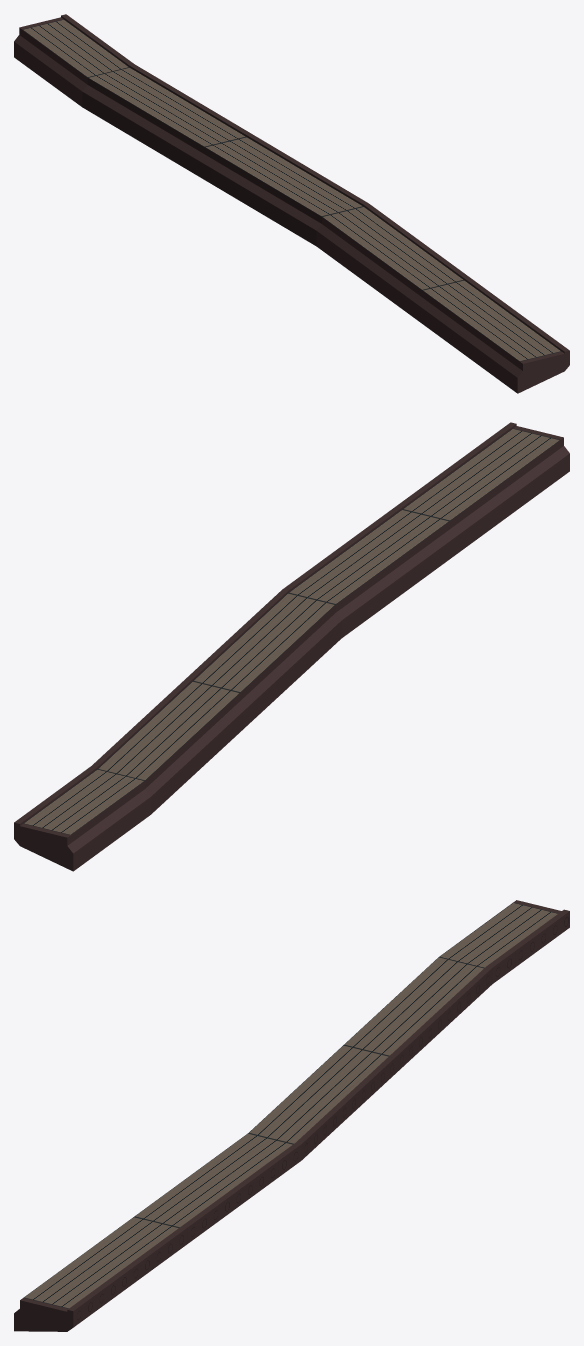
File: SW_ENV_EL_TrackBase_Walkway_Side_Crooked.fbx
3 views of the same model, one above another, from view 1: azimuth 30°, elevation 25°; view 2: azimuth 150°, elevation 25°; view 3: azimuth 330°, elevation 25° (orthographic). The views are drawn at different scales.
Parts seen in each view (by area): view 1: SW_ENV_EL_TrackBase_Walkway_Side_Crooked; view 2: SW_ENV_EL_TrackBase_Walkway_Side_Crooked; view 3: SW_ENV_EL_TrackBase_Walkway_Side_Crooked.
Boxes of the visible parts, x1,y1,x2,y2 form: SW_ENV_EL_TrackBase_Walkway_Side_Crooked: [14, 14, 569, 393]; SW_ENV_EL_TrackBase_Walkway_Side_Crooked: [14, 422, 569, 871]; SW_ENV_EL_TrackBase_Walkway_Side_Crooked: [14, 900, 569, 1331].
Bounding box in the file's own units: 245 × 83.5 × 2340.
